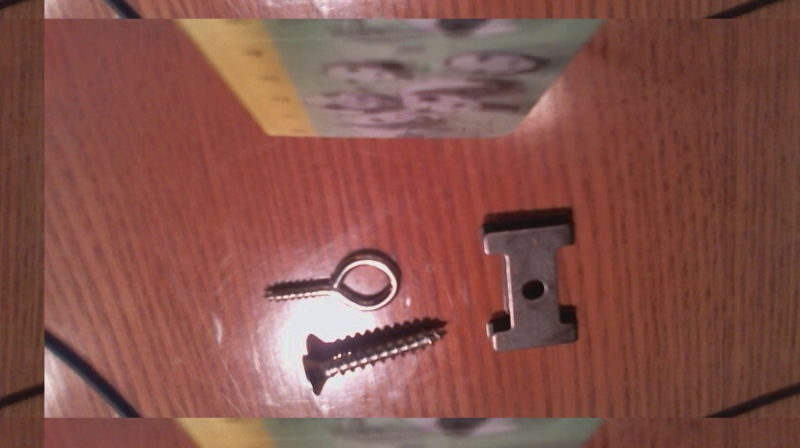O001: (256, 249, 404, 314)
O002: (474, 211, 583, 354)
S001: (292, 320, 452, 399)
